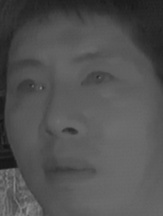eye: (74, 68, 117, 94), (11, 75, 46, 97)
mouth: (41, 152, 99, 189)
